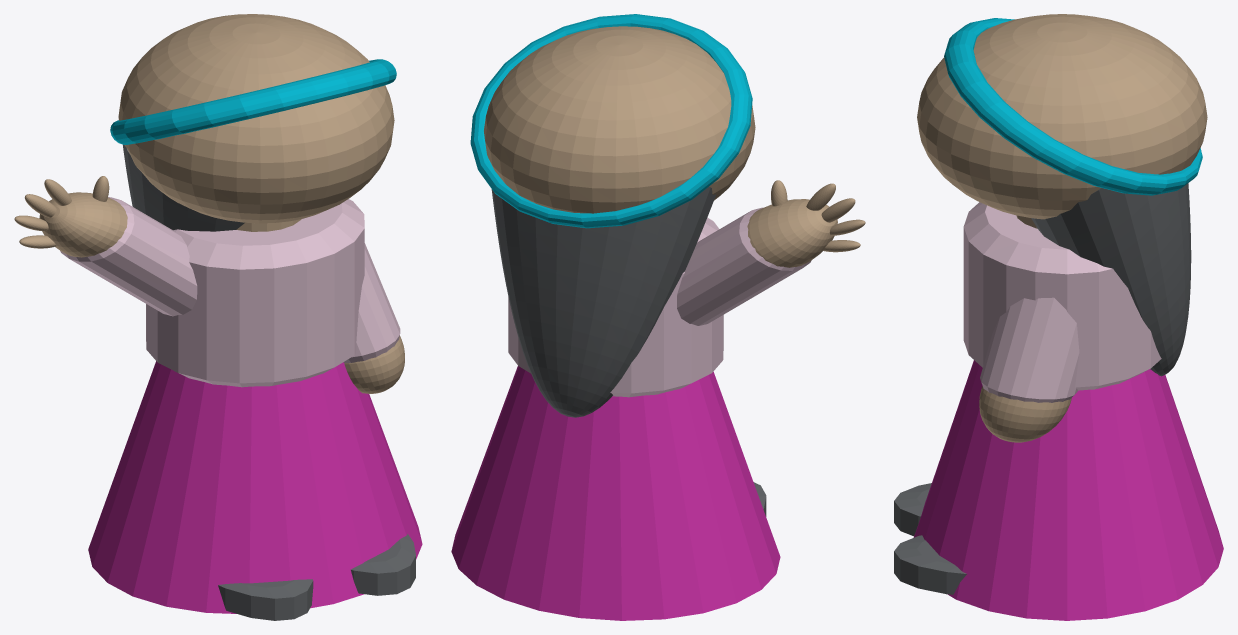
Rendered from waiter2.glb.
The picture shows the model from 3 angles, left to right: view 1: azimuth 30°, elevation 25°; view 2: azimuth 150°, elevation 25°; view 3: azimuth 270°, elevation 25°; orthographic projection.
Parts seen in each view (by area): view 1: Mesh_Mesh_head_geo.001_lambert2SG.001; view 2: Mesh_Mesh_head_geo.001_lambert2SG.001; view 3: Mesh_Mesh_head_geo.001_lambert2SG.001.
Boxes of the visible parts, box(x1,y1,x2,y2) form: Mesh_Mesh_head_geo.001_lambert2SG.001: box(14, 14, 422, 620); Mesh_Mesh_head_geo.001_lambert2SG.001: box(451, 14, 865, 620); Mesh_Mesh_head_geo.001_lambert2SG.001: box(894, 14, 1223, 620).
Size of the model in its own units: 0.012 by 0.015 by 0.00867.
